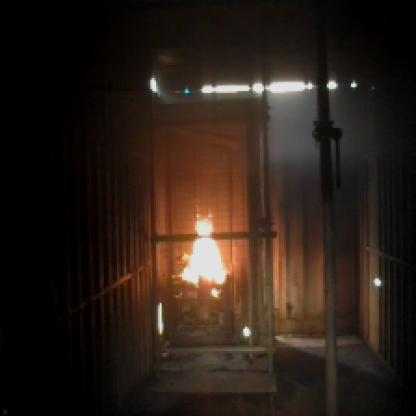Fire: (182, 206, 227, 299)
